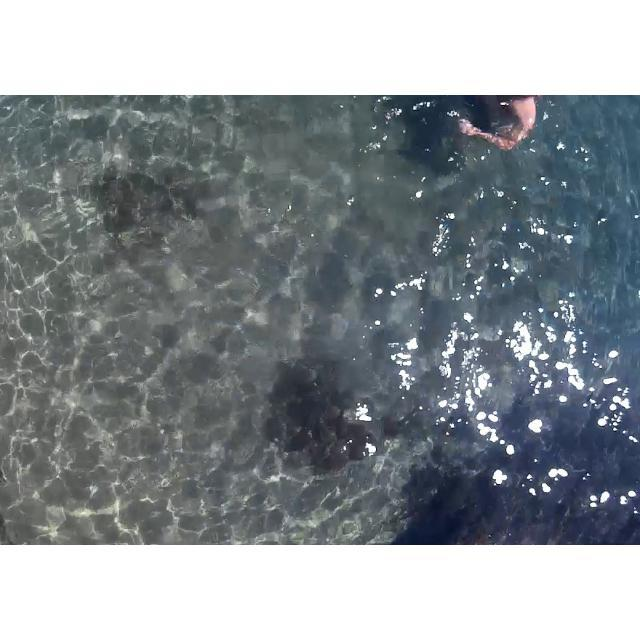human: (442, 95, 548, 163)
